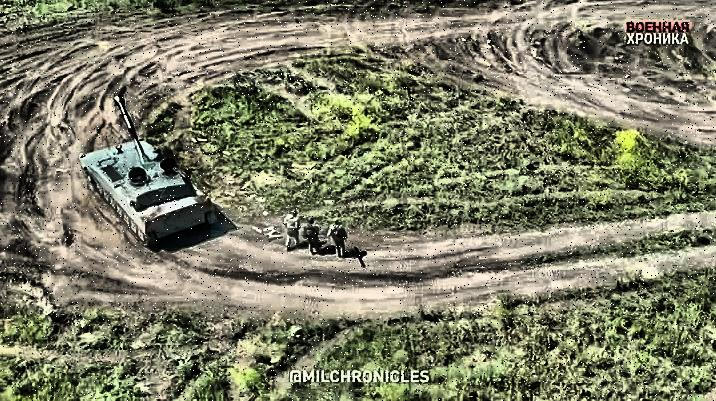military-vehicle: (81, 95, 211, 248)
